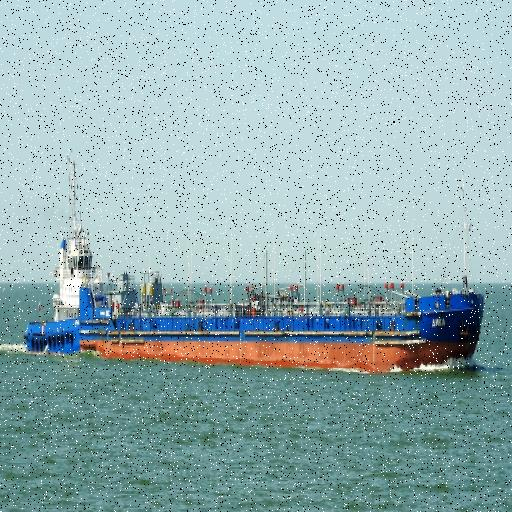tugboat: (23, 152, 121, 376)
